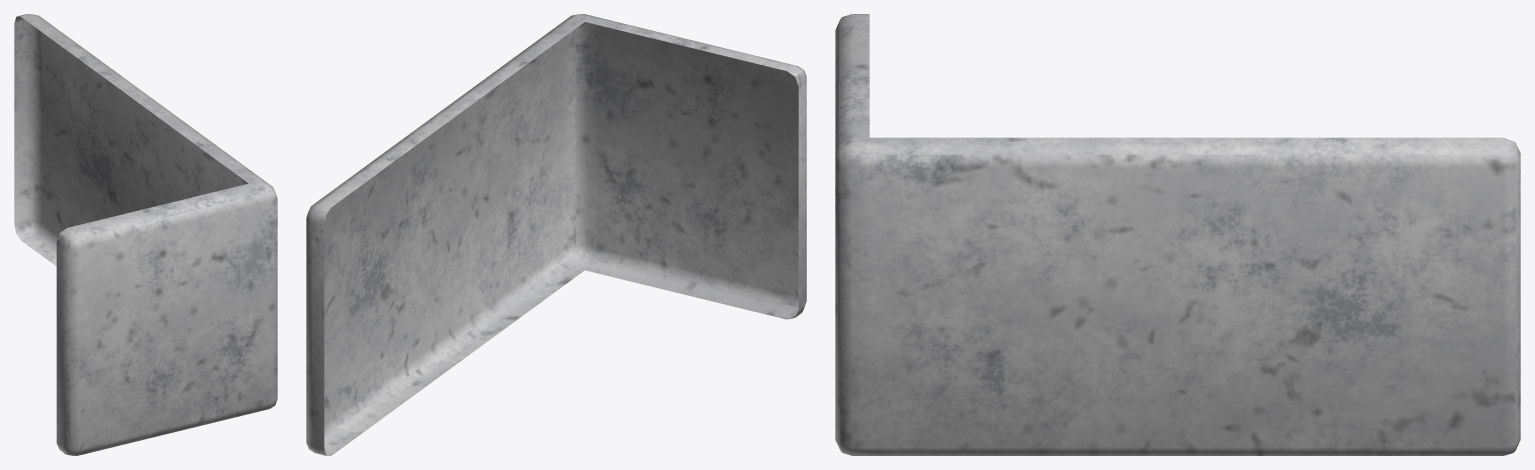
File: Rock.fbx
3 renders of one model, left to right at view 1: azimuth 30°, elevation 25°; view 2: azimuth 150°, elevation 25°; view 3: azimuth 270°, elevation 25°, orthographic. The views are drawn at different scales.
Parts seen in each view (by area): view 1: Rock; view 2: Rock; view 3: Rock.
Part boxes in pixels (bbox=[...]): Rock: bbox=[14, 14, 277, 455]; Rock: bbox=[306, 14, 806, 455]; Rock: bbox=[835, 14, 1520, 455].
Size of the model in its own units: 40 by 20 by 20.
1 material, 1 textured.
